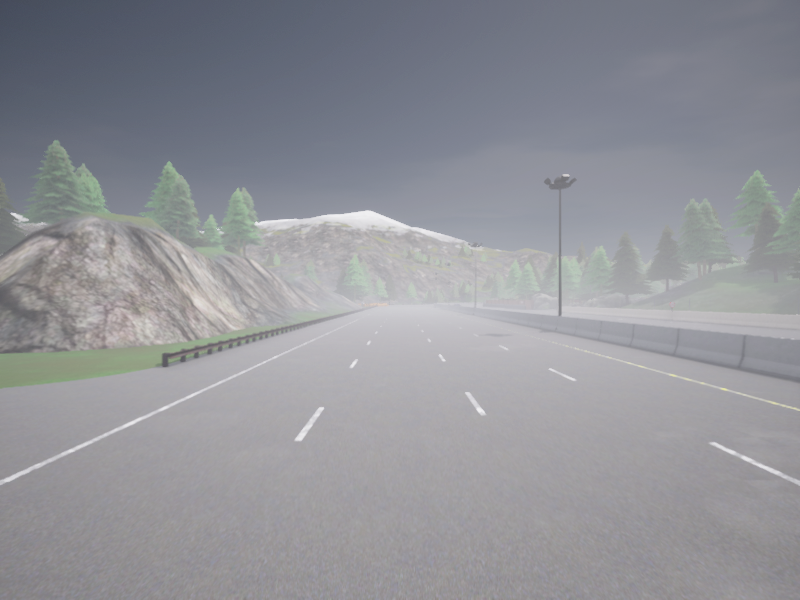vehicle: (453, 303, 459, 305)
